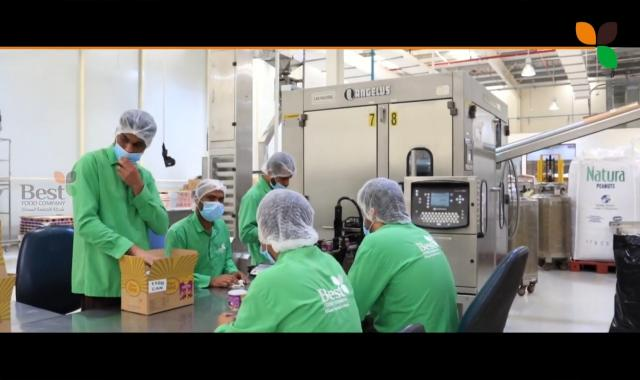hairnet: (254, 188, 317, 250), (359, 176, 414, 226), (117, 111, 154, 147), (192, 179, 227, 208), (262, 150, 294, 181)
